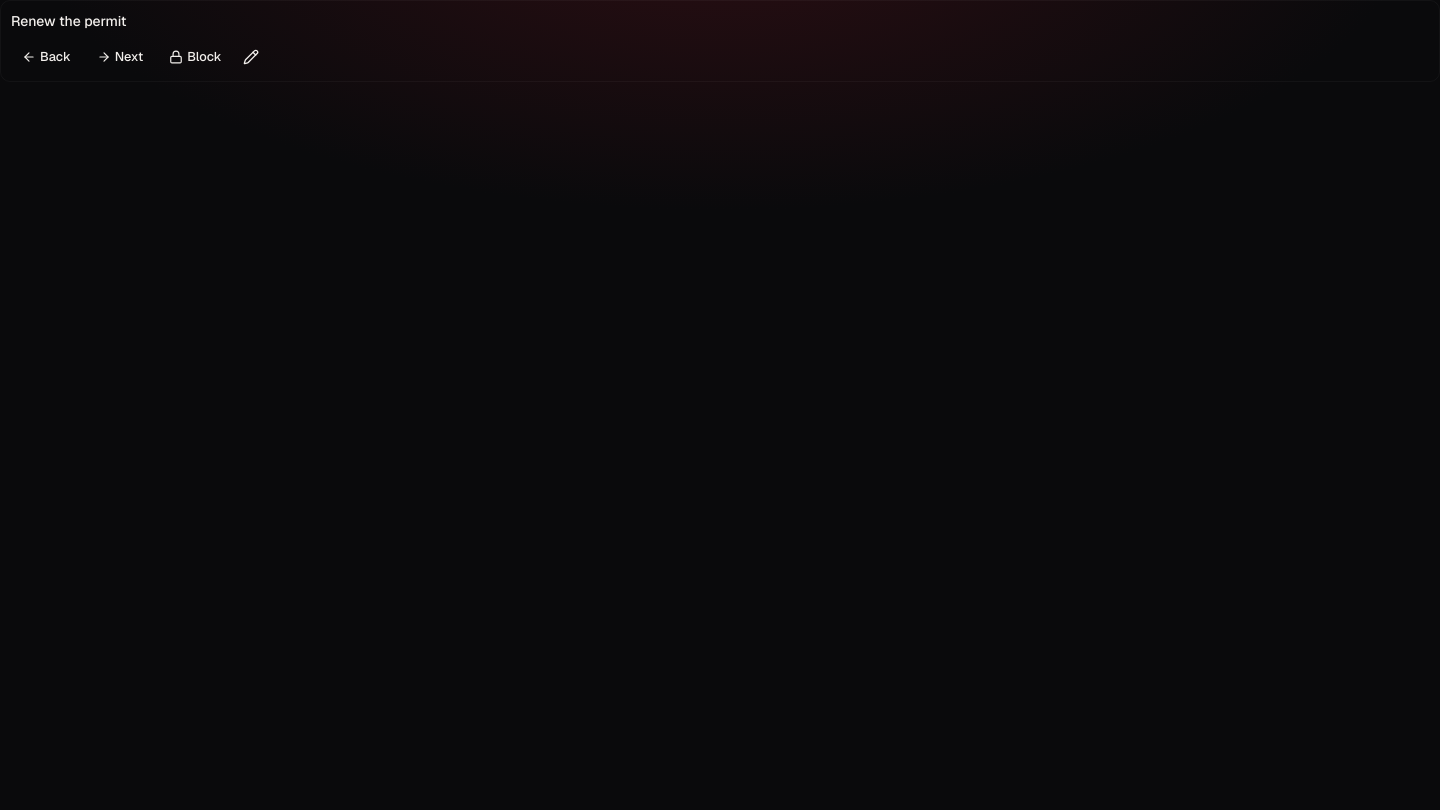
it: TaskCard — blocking with an optional reason › Cancel closes the dialog without blocking
Step 1. Click the button with aria-label "Mark blocked — waiting on something outside your control" → click(195, 57), box [158, 43, 233, 71]
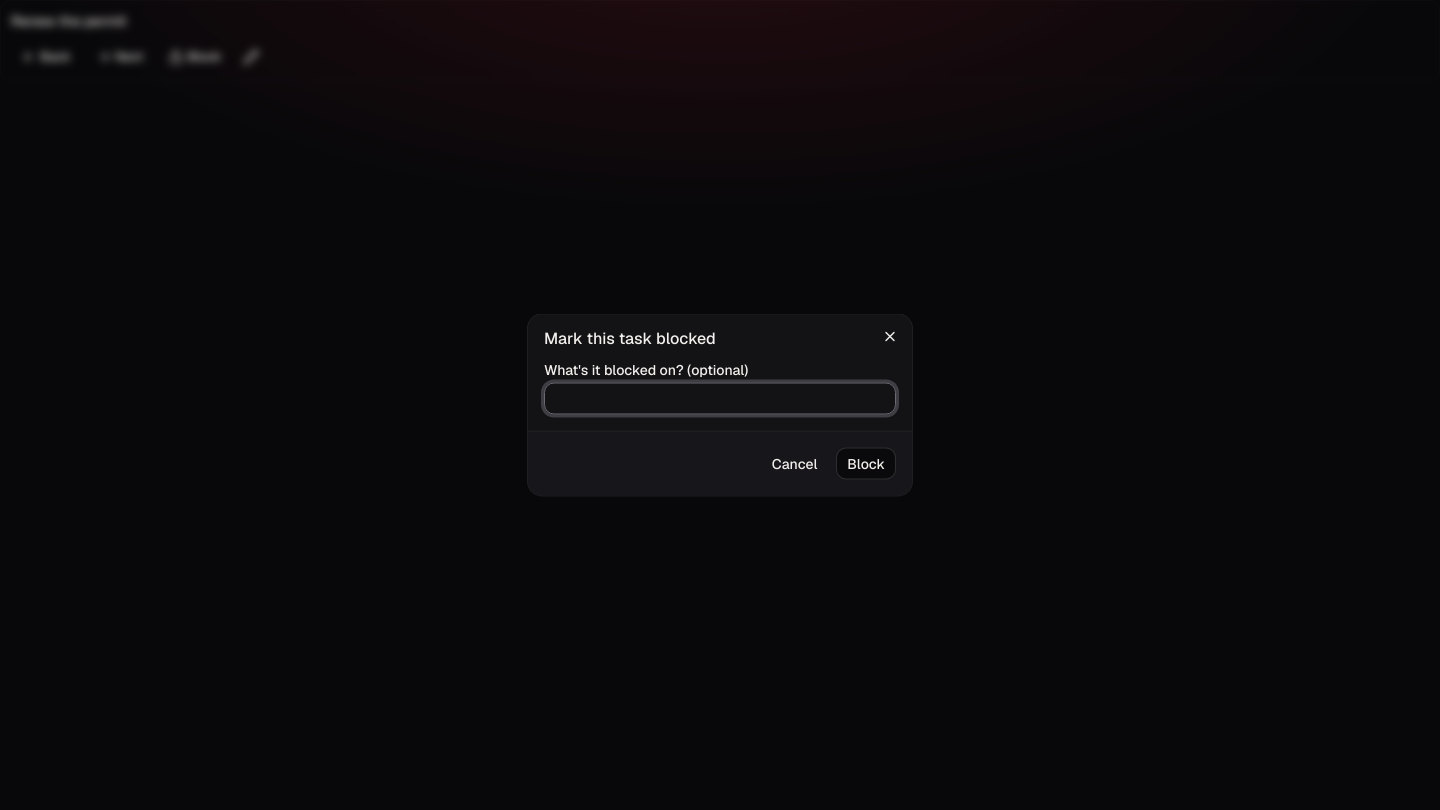
Step 2. Click the button "Cancel" → click(795, 464), box [761, 448, 828, 480]
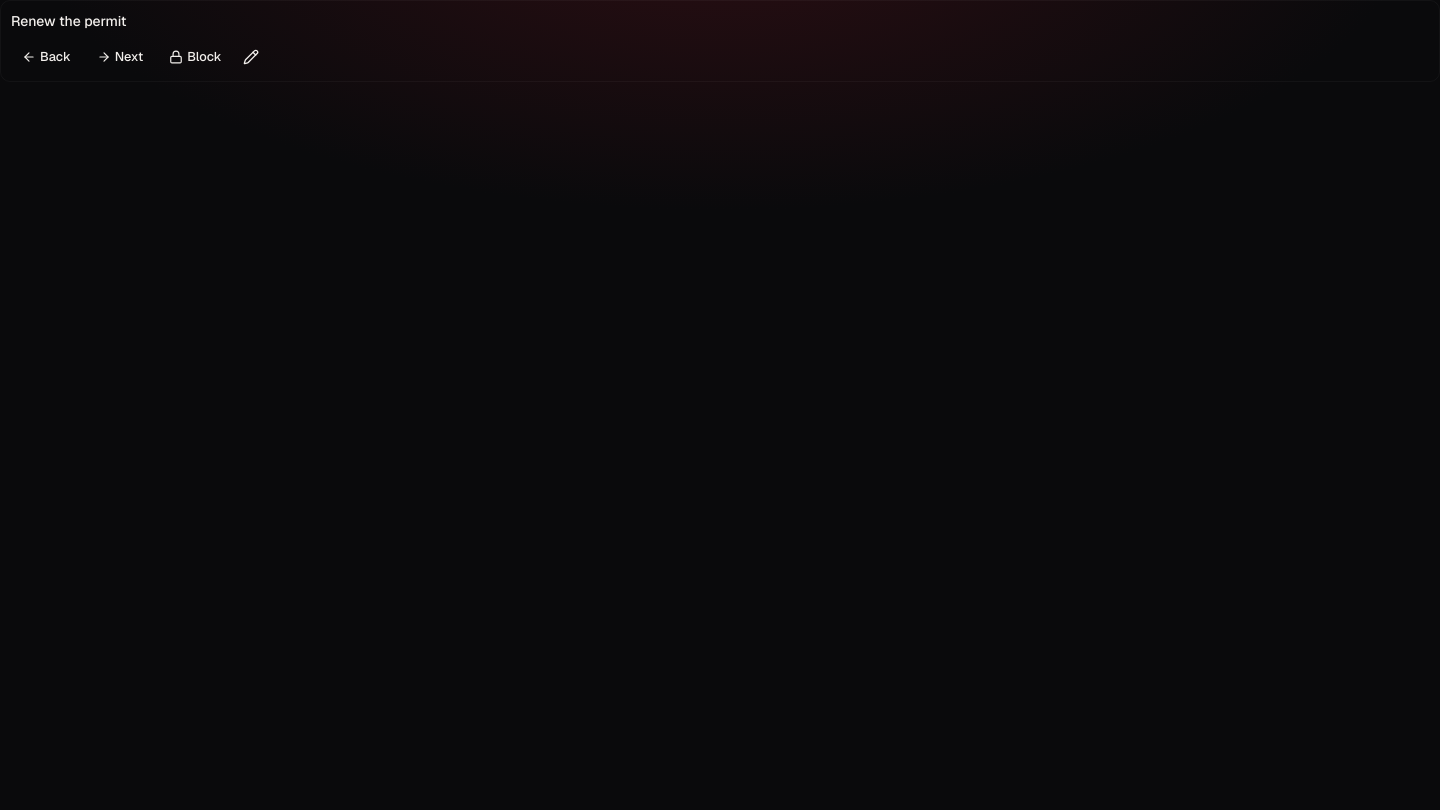
Now the dialog is gone
